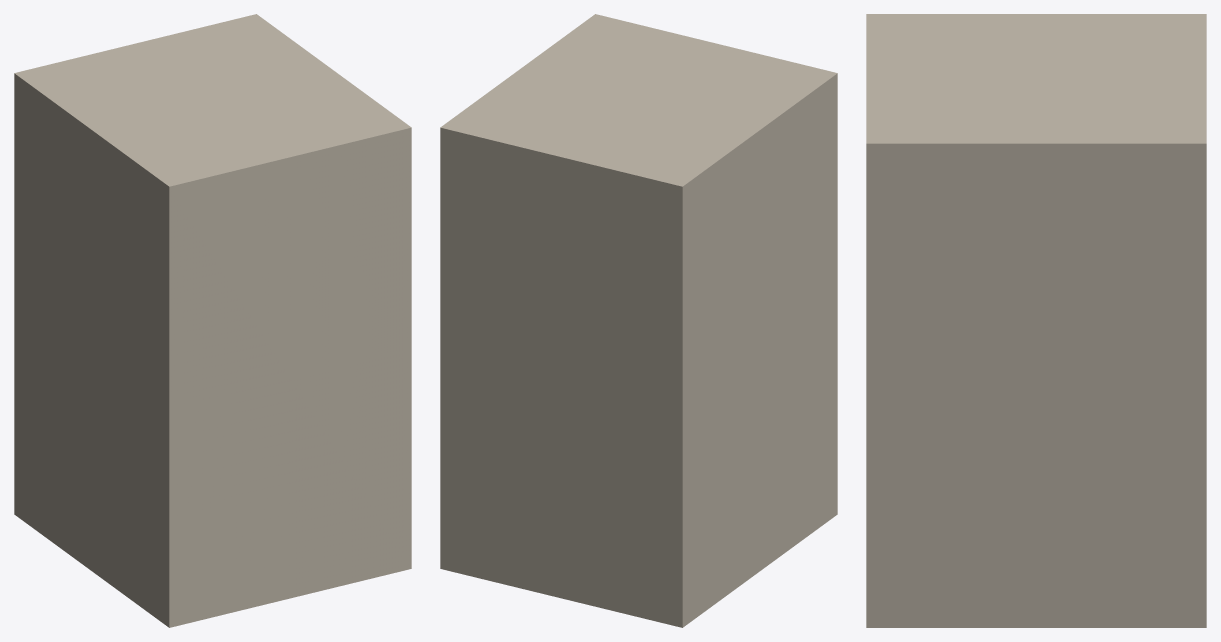
File: ikea-norraryd-59178472-g2-proxy.glb
3 renders of one model, left to right at view 1: azimuth 30°, elevation 25°; view 2: azimuth 150°, elevation 25°; view 3: azimuth 270°, elevation 25°, orthographic. The views are drawn at different scales.
Visible parts, largest first — view 1: proxy_body; view 2: proxy_body; view 3: proxy_body.
Boxes of the visible parts, left/top/right/bottom form: proxy_body: left=14, top=14, right=411, bottom=627; proxy_body: left=440, top=14, right=837, bottom=627; proxy_body: left=866, top=14, right=1206, bottom=627.
Size of the model in its own units: 0.46 by 0.8 by 0.51.
